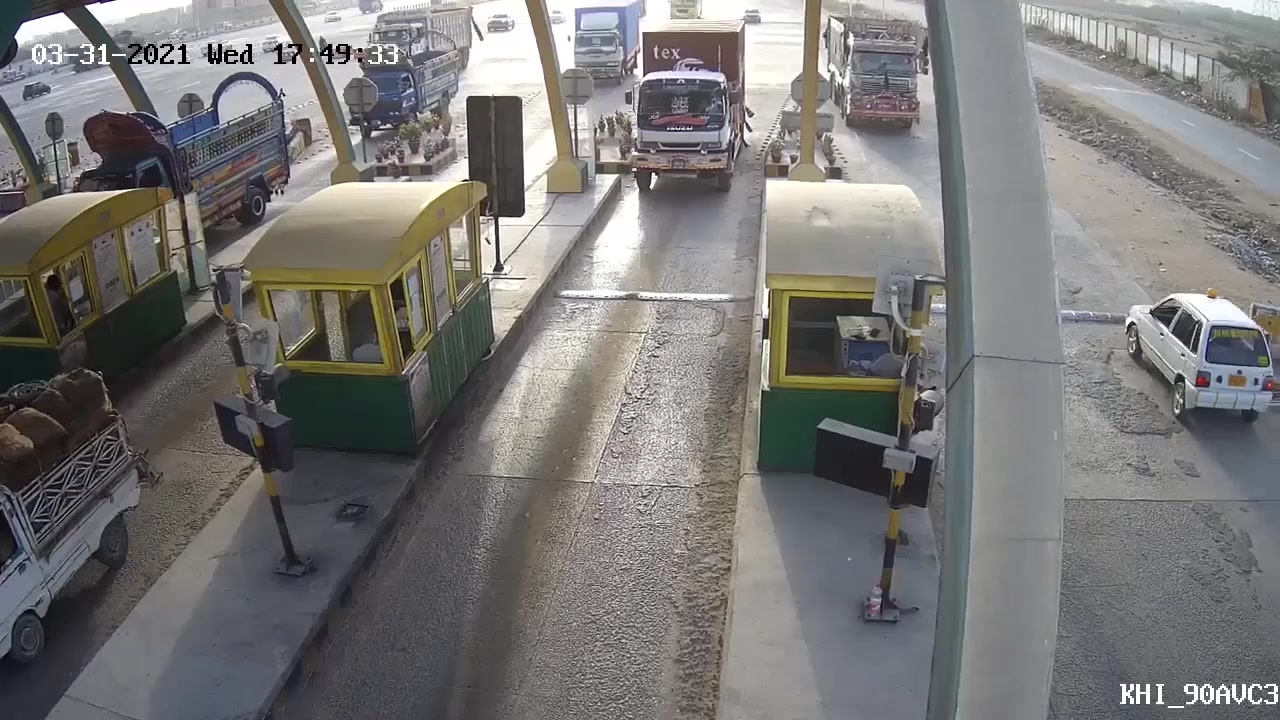F5: (612, 18, 759, 196)
